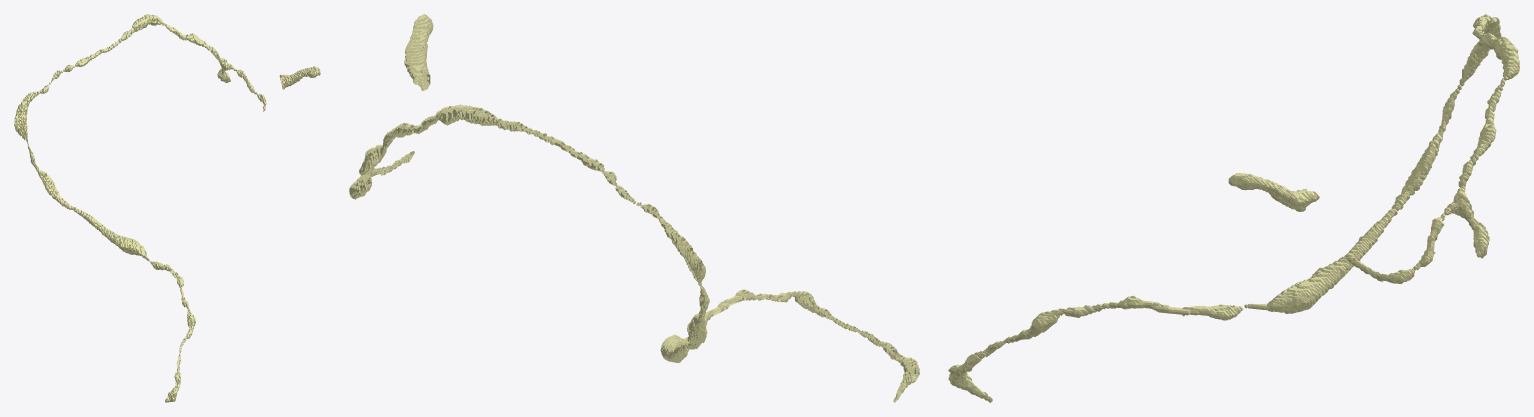
Rendered from SVV_SAAVR.gltf.
3 renders of one model, left to right at view 1: azimuth 30°, elevation 25°; view 2: azimuth 150°, elevation 25°; view 3: azimuth 270°, elevation 25°, orthographic. The views are drawn at different scales.
Visible parts, largest first — view 1: SAAVR; view 2: SAAVR; view 3: SAAVR.
Boxes of the visible parts, <box> form: SAAVR: <box>14,14,320,402</box>; SAAVR: <box>349,14,919,402</box>; SAAVR: <box>948,14,1519,402</box>.
Size of the model in its own units: 145136 by 147050 by 163238.
